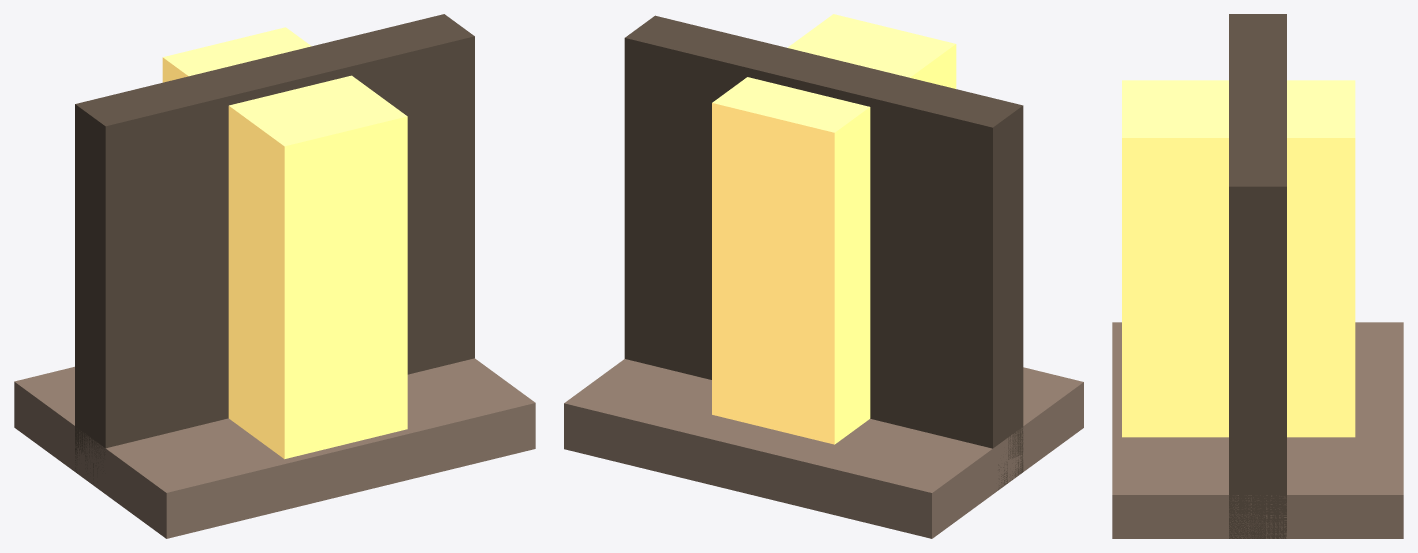
Rendered from story-book-shelved.gltf.
3 renders of one model, left to right at view 1: azimuth 30°, elevation 25°; view 2: azimuth 150°, elevation 25°; view 3: azimuth 270°, elevation 25°, orthographic. The views are drawn at different scales.
Visible parts, largest first — view 1: SlotBack, Book, SlotFloor; view 2: SlotBack, Book, SlotFloor; view 3: Book, SlotFloor, SlotBack.
Boxes of the visible parts, bbox=[...] form: SlotBack: bbox=[75, 14, 474, 483]; Book: bbox=[162, 27, 407, 459]; SlotFloor: bbox=[14, 358, 535, 538]; SlotBack: bbox=[624, 15, 1023, 489]; Book: bbox=[712, 14, 956, 444]; SlotFloor: bbox=[564, 359, 1083, 538]; Book: bbox=[1122, 80, 1355, 437]; SlotFloor: bbox=[1112, 322, 1403, 538]; SlotBack: bbox=[1229, 14, 1286, 538].
Bounding box in the file's own units: 0.42 × 0.4 × 0.3.
